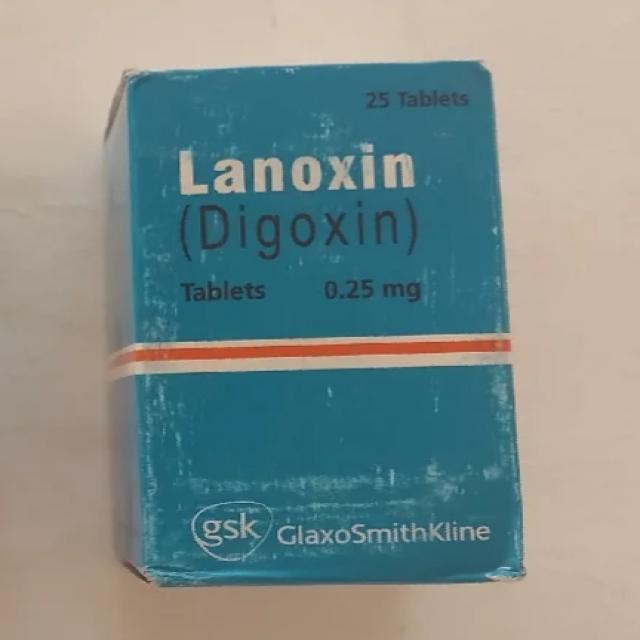drug-name: (172, 140, 422, 196)
